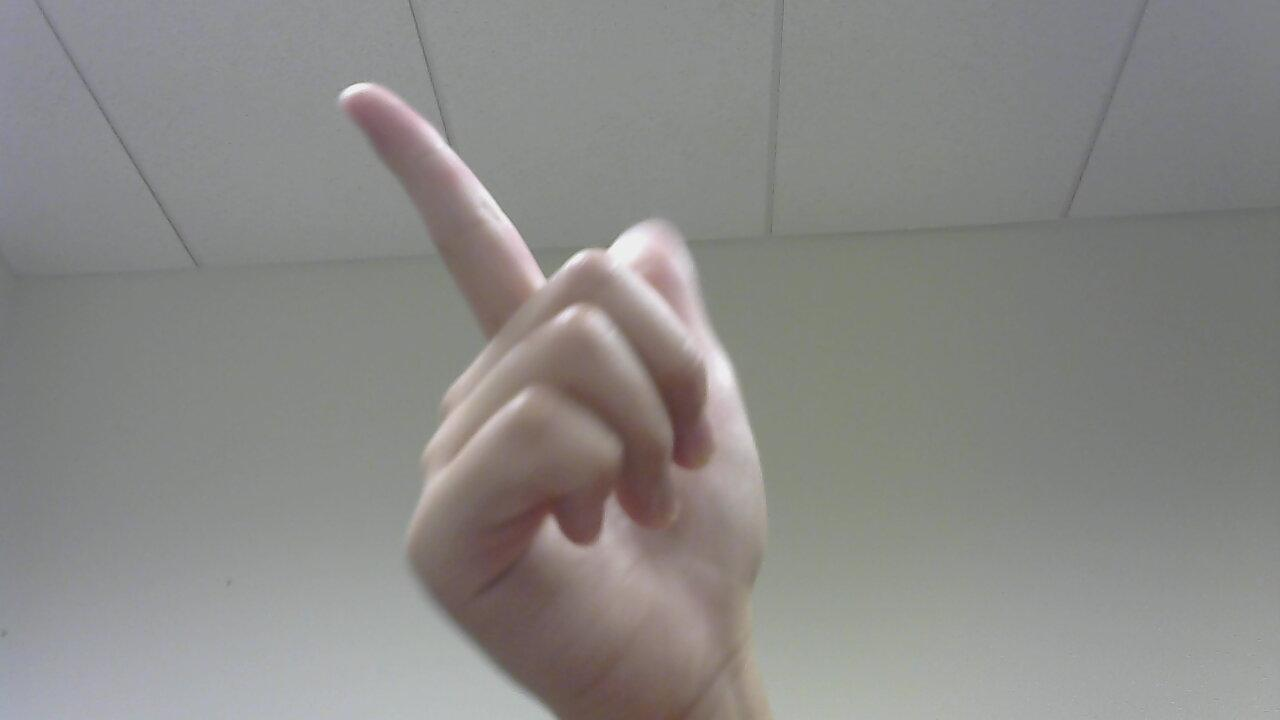hands: (330, 75, 795, 720)
